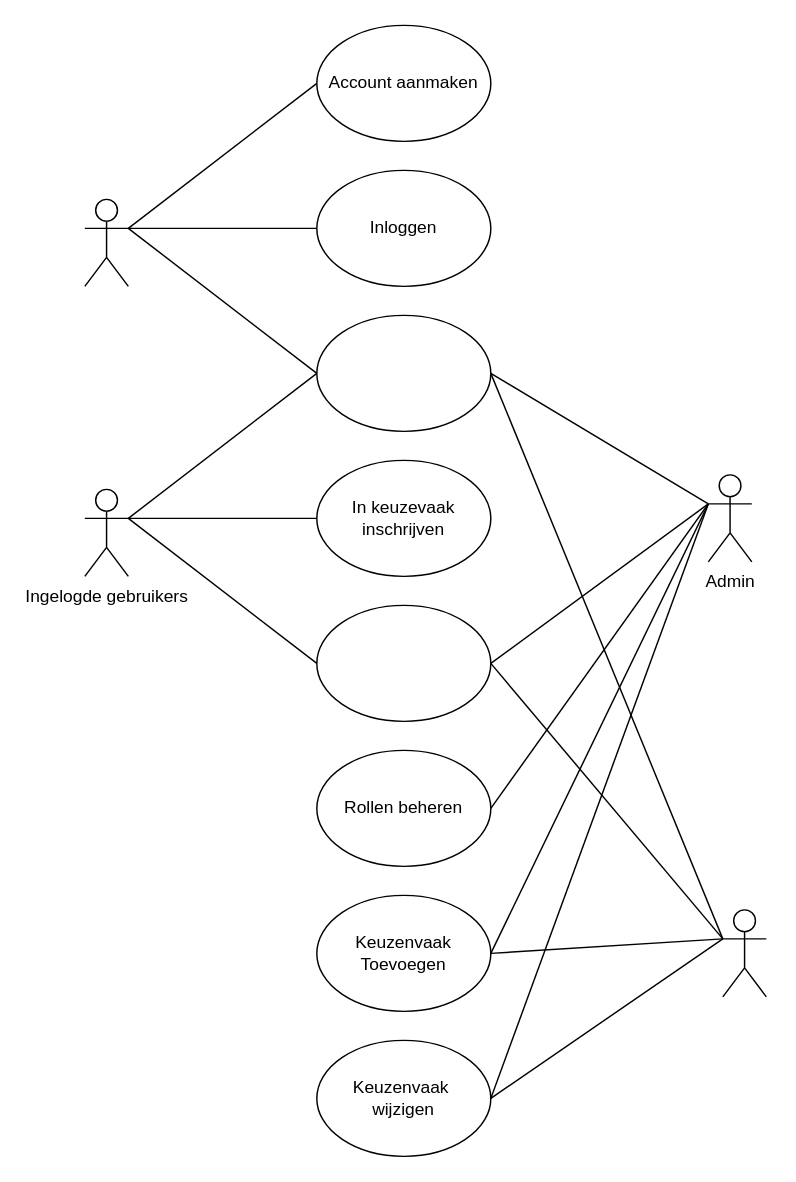
This 796x1182 diagram has some shape labels left out. Each missing label, with the centre of its shape:
"Docent" belongs at point 743,952.
"Niet-ingelogde gebruikers" belongs at point 105,242.
"Over keuzenvaak lezen" belongs at point 403,372.
"Uitloggen" belongs at point 403,662.
